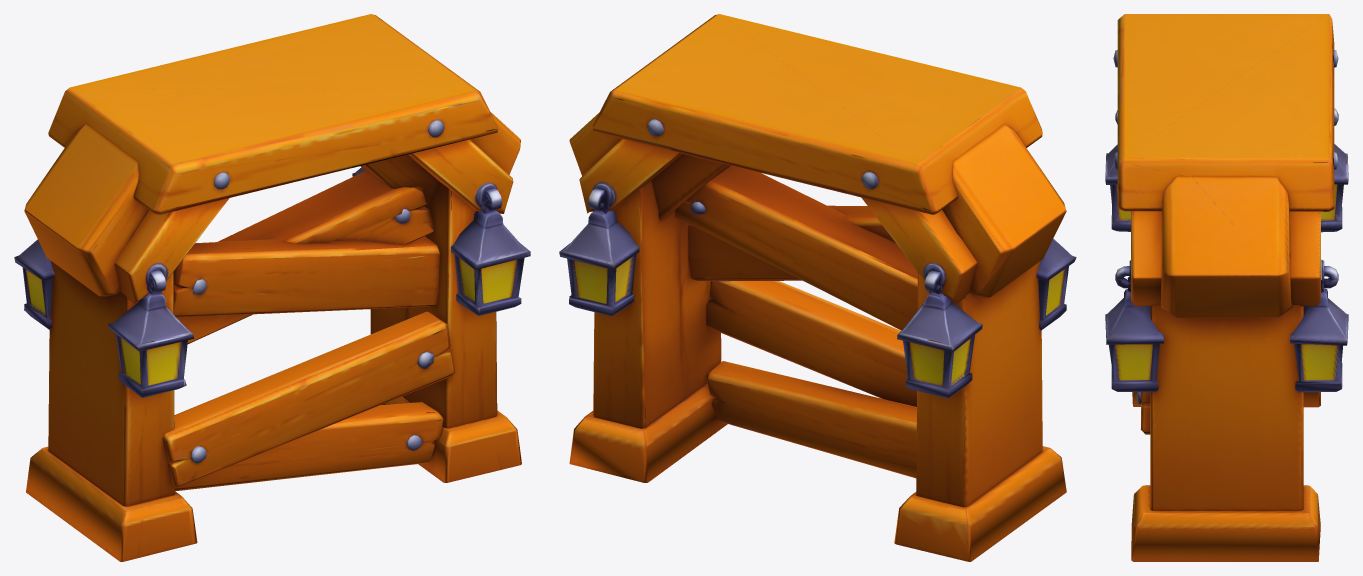
File: Closed_Entrance.glb
3 renders of one model, left to right at view 1: azimuth 30°, elevation 25°; view 2: azimuth 150°, elevation 25°; view 3: azimuth 270°, elevation 25°, orthographic. The views are drawn at different scales.
Visible parts, largest first — view 1: geometry_0; view 2: geometry_0; view 3: geometry_0.
Part boxes in pixels (x1=…): geometry_0: x1=14, y1=14, x2=530, y2=561; geometry_0: x1=559, y1=14, x2=1076, y2=561; geometry_0: x1=1105, y1=14, x2=1348, y2=561.
Bounding box in the file's own units: 0.9565 × 0.7998 × 0.4644.
Materials: 1 (1 with a texture image).
